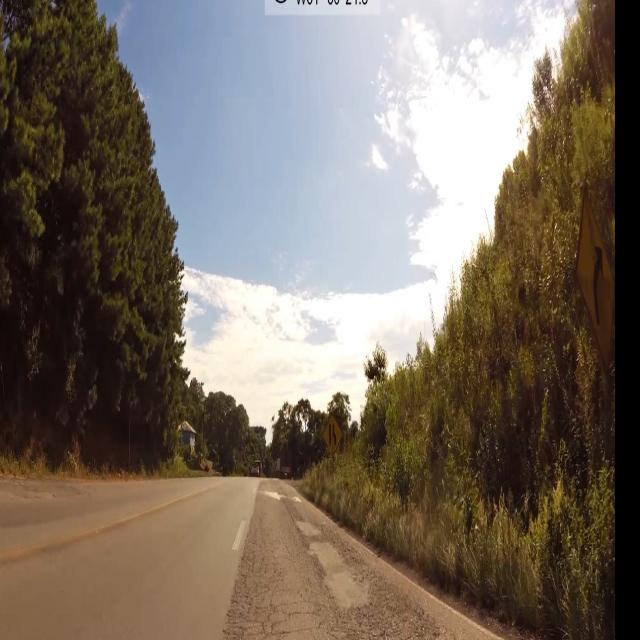A-21c: (324, 414, 342, 459)
A-2b: (575, 190, 616, 384)
